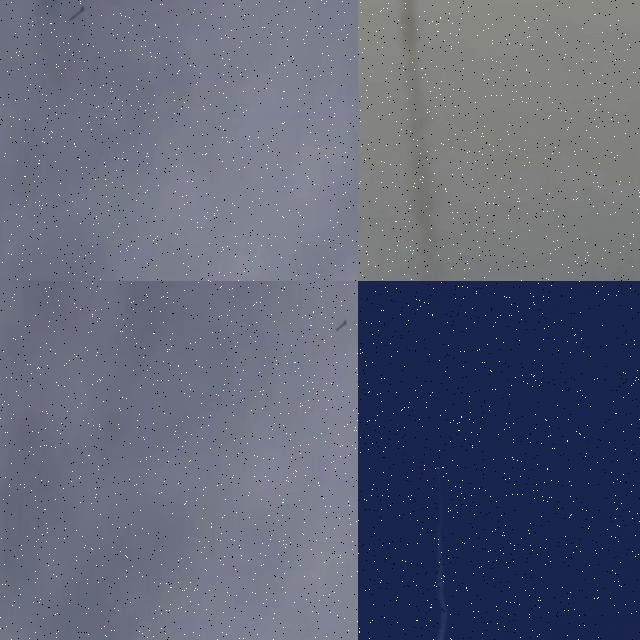Rocket: (70, 6, 84, 22), (336, 319, 347, 332), (437, 467, 440, 470)
